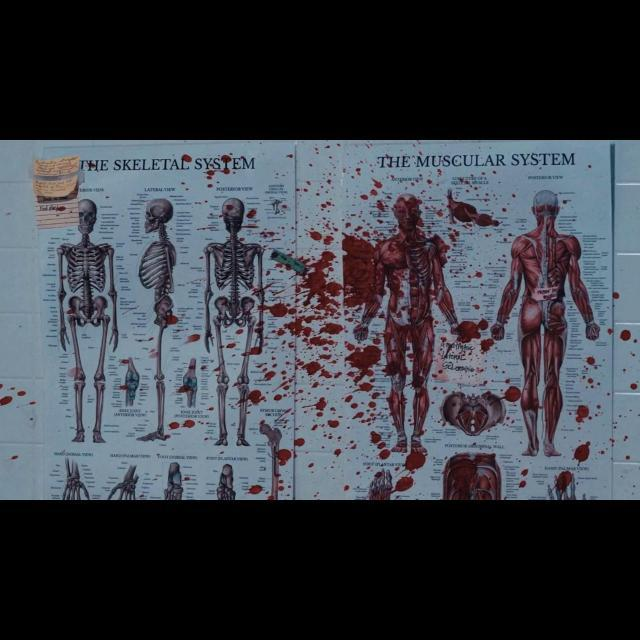blood: (300, 250, 342, 309), (342, 232, 375, 307), (448, 188, 500, 226), (346, 345, 382, 384), (458, 321, 482, 343), (264, 302, 296, 317), (406, 452, 426, 472), (574, 442, 590, 466), (264, 302, 288, 317), (557, 471, 574, 491), (284, 318, 303, 335), (503, 386, 522, 402), (394, 477, 414, 492), (320, 322, 344, 334), (302, 362, 322, 375), (576, 405, 590, 423), (248, 390, 266, 404), (278, 449, 292, 466), (310, 336, 334, 345), (315, 397, 328, 411), (482, 338, 494, 353), (185, 334, 200, 343), (372, 431, 382, 444), (360, 382, 374, 391), (478, 319, 489, 330), (166, 314, 178, 324), (380, 450, 392, 460), (310, 230, 322, 240), (264, 370, 276, 380), (249, 486, 262, 495), (622, 329, 632, 340), (320, 369, 332, 378), (250, 346, 262, 355), (0, 396, 12, 405), (182, 420, 195, 428), (302, 326, 312, 336), (304, 315, 316, 323), (328, 420, 340, 428), (378, 199, 386, 211), (373, 178, 383, 187), (324, 235, 334, 244), (346, 341, 356, 350), (168, 422, 179, 430), (352, 412, 364, 419), (295, 438, 305, 446), (588, 356, 596, 365), (182, 154, 192, 161), (206, 170, 214, 178), (372, 392, 381, 399), (320, 354, 332, 359), (368, 401, 376, 408), (345, 395, 353, 402), (520, 480, 527, 488), (274, 394, 282, 401), (631, 383, 639, 390), (334, 449, 342, 456), (522, 469, 529, 476), (334, 372, 342, 378), (312, 382, 320, 388), (476, 271, 484, 277), (360, 194, 368, 199), (316, 412, 324, 417), (312, 424, 318, 430), (344, 485, 350, 491), (351, 403, 358, 408), (347, 372, 354, 377), (474, 304, 481, 309), (284, 385, 290, 390)
